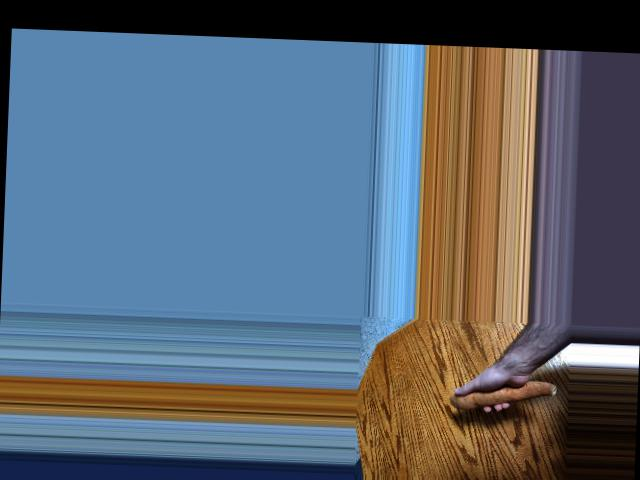sweet_potato: (450, 373, 561, 415)
